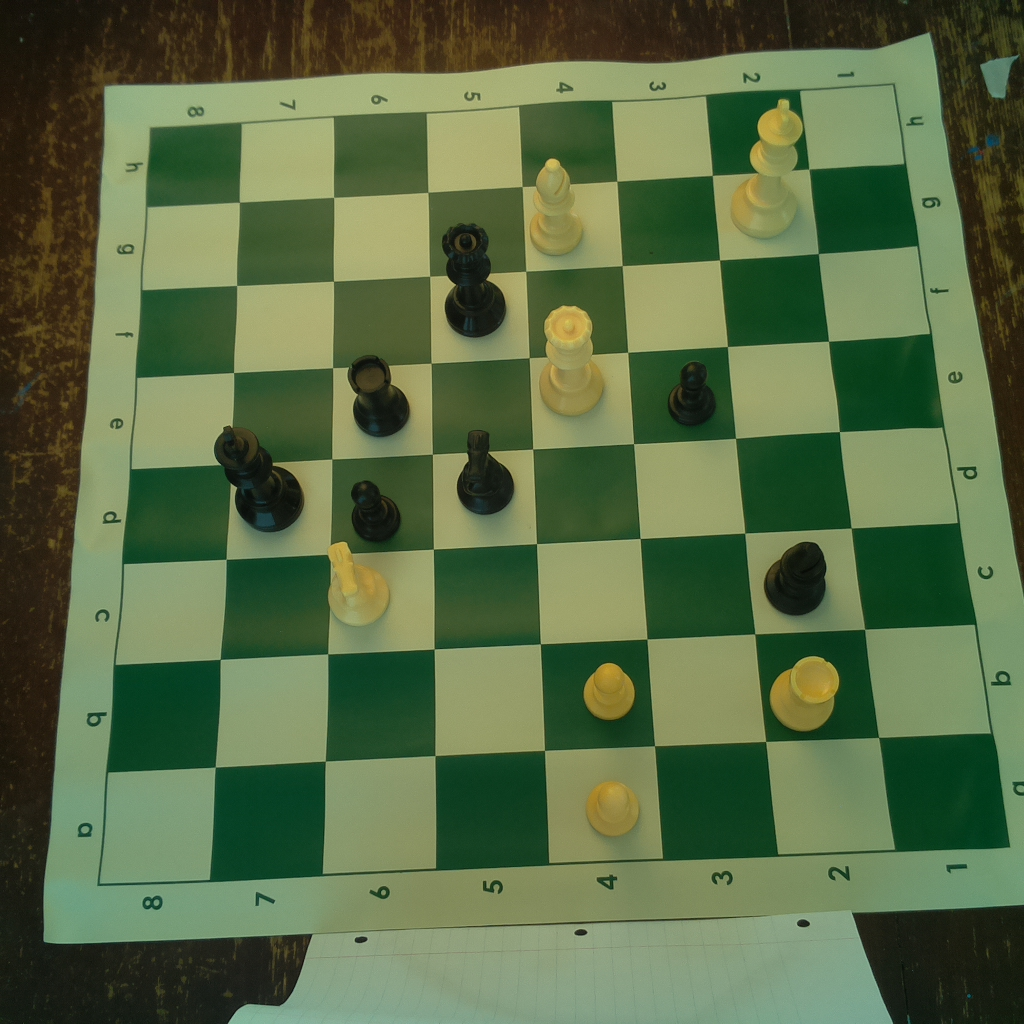black_bishop: (758, 538, 836, 619)
black_king: (210, 418, 308, 532)
black_knight: (447, 425, 520, 518)
black_pawn: (664, 354, 723, 428), (346, 477, 408, 544)
black_queen: (440, 219, 514, 341)
black_rook: (342, 348, 415, 443)
file_a: (94, 735, 1012, 884)
file_b: (106, 625, 993, 774)
file_c: (116, 523, 975, 665)
file_d: (123, 428, 959, 564)
file_e: (131, 334, 949, 469)
file_f: (140, 247, 933, 379)
file_g: (140, 164, 919, 290)
file_h: (145, 84, 907, 208)
outline: (94, 82, 1012, 886)
rank_1: (801, 83, 1010, 853)
rank_2: (706, 92, 896, 856)
rank_3: (612, 93, 779, 861)
rank_4: (519, 97, 664, 862)
rank_5: (425, 104, 550, 869)
rank_6: (319, 112, 441, 871)
rank_7: (211, 115, 333, 879)
rank_8: (98, 121, 242, 890)
white_bishop: (528, 154, 585, 261)
white_king: (724, 96, 805, 238)
white_knight: (321, 540, 394, 630)
white_pawn: (580, 656, 640, 725), (583, 775, 645, 839)
white_queen: (532, 300, 611, 422)
white_rook: (764, 649, 846, 738)
